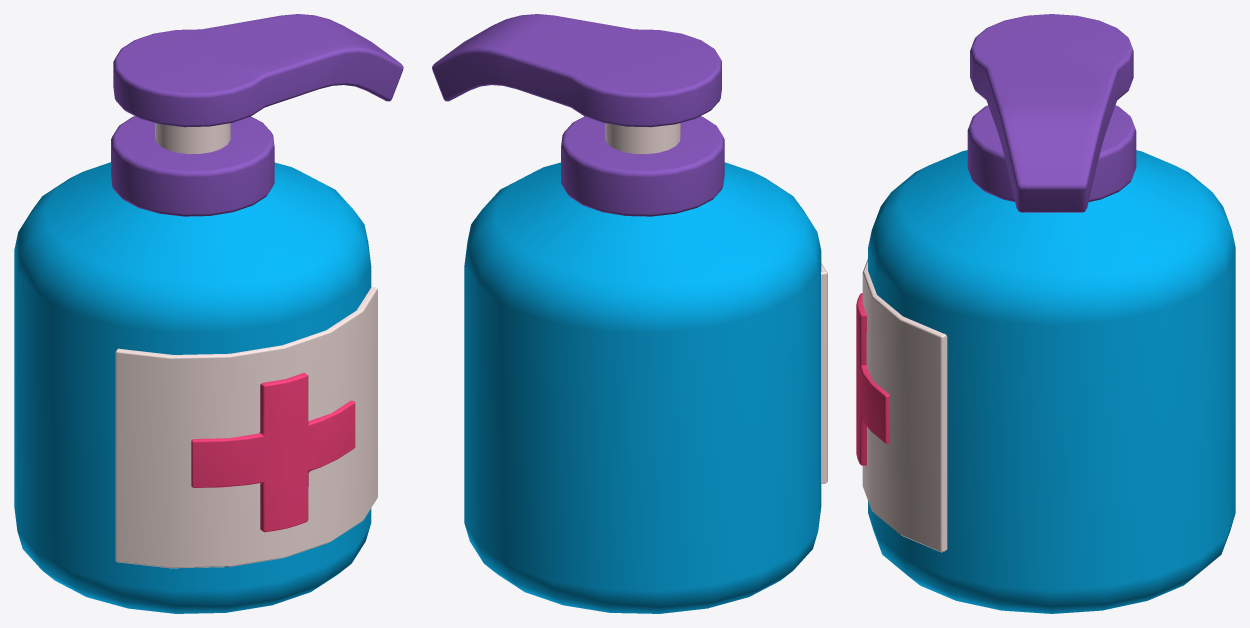
The model's file is Public_3_Bottle_of_Disinfectant_1.glb.
3 renders of one model, left to right at view 1: azimuth 30°, elevation 25°; view 2: azimuth 150°, elevation 25°; view 3: azimuth 270°, elevation 25°, orthographic. The views are drawn at different scales.
Parts seen in each view (by area): view 1: Public_3_Bottle_of_Disinfectant_1; view 2: Public_3_Bottle_of_Disinfectant_1; view 3: Public_3_Bottle_of_Disinfectant_1.
Boxes of the visible parts, <box> form: Public_3_Bottle_of_Disinfectant_1: <box>14,14,403,613</box>; Public_3_Bottle_of_Disinfectant_1: <box>432,14,827,613</box>; Public_3_Bottle_of_Disinfectant_1: <box>856,14,1235,613</box>.
Bounding box in the file's own units: 3.25 × 4.35 × 2.97.
Materials: 1 (1 with a texture image).
